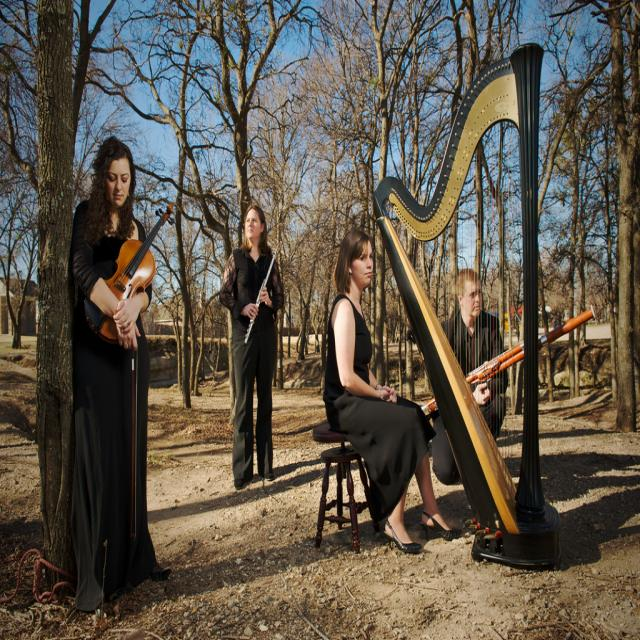harp: (368, 48, 571, 581)
